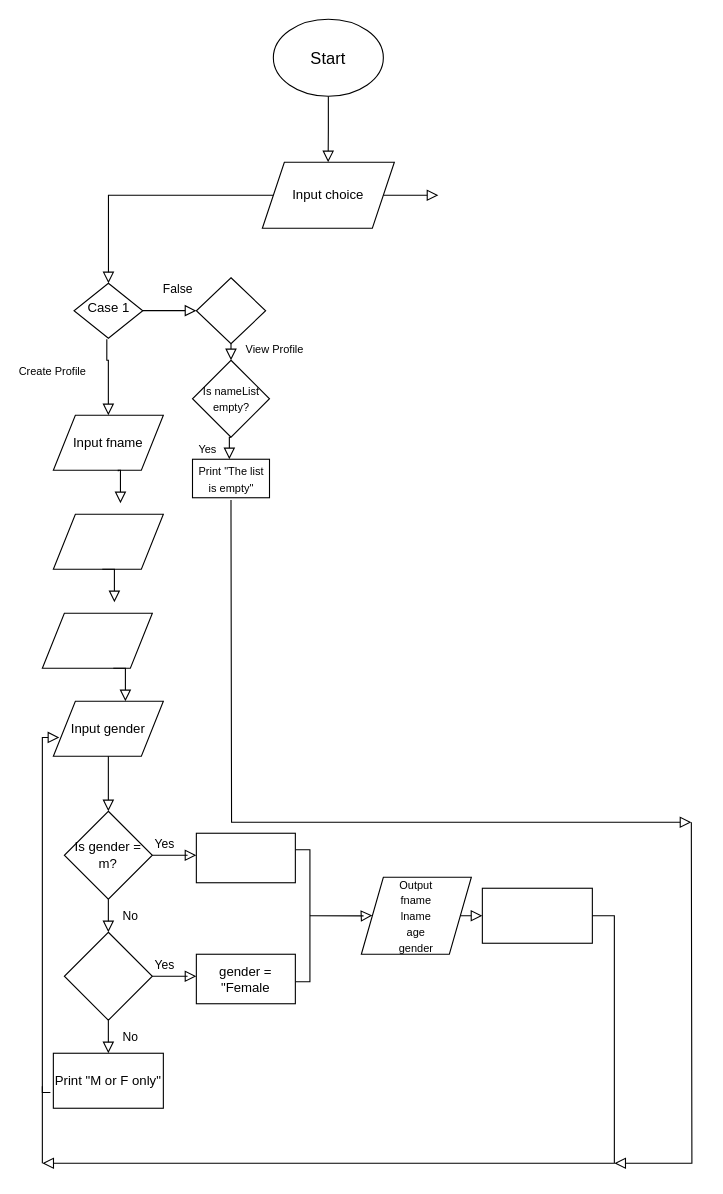
Some shapes in this 723 by 1194 pixel diagram are drawn without their labels. The shapes that lost their labels are listed below. From the top down, each one's box as (x1, y1, x2, y2) in pixels, then its label:
(195, 277, 266, 344): Case 2
(52, 513, 163, 569): Input lname
(41, 612, 152, 668): Input age
(195, 832, 295, 883): gender = "Male"
(481, 887, 592, 943): nameList.add ageList.add genderList.add
(63, 931, 152, 1020): Is gender = f?
